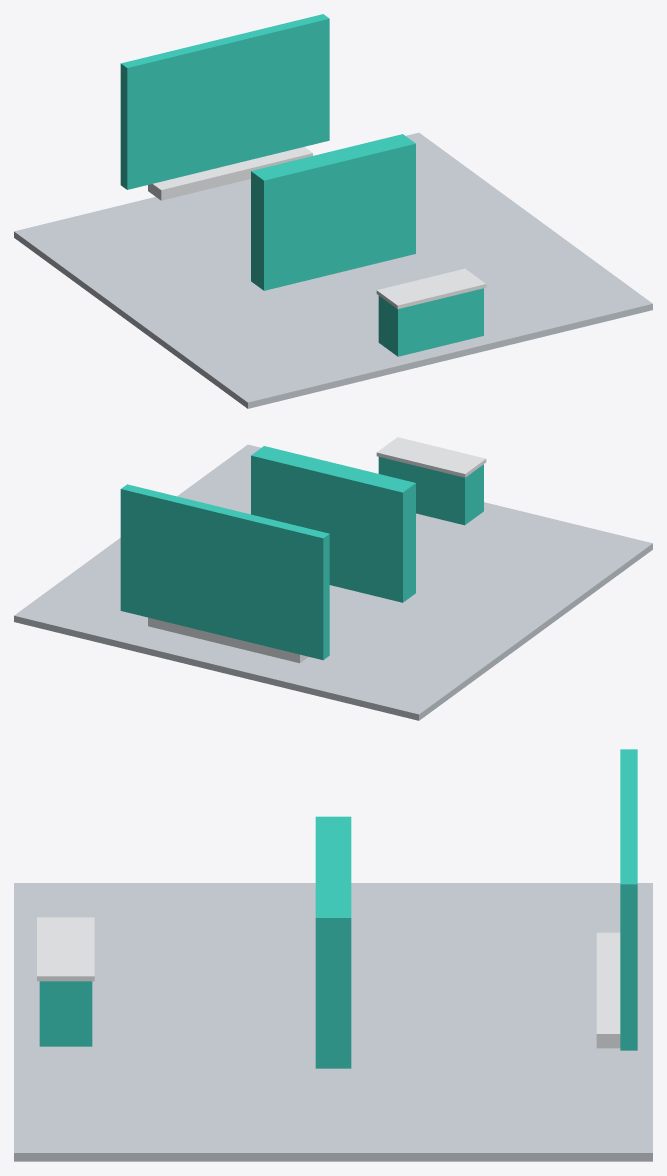
3 views of the same model, one above another, from view 1: azimuth 30°, elevation 25°; view 2: azimuth 150°, elevation 25°; view 3: azimuth 270°, elevation 25° (orthographic). The views are drawn at different scales.
Parts seen in each view (by area): view 1: Exhibition Booth Concept; view 2: Exhibition Booth Concept; view 3: Exhibition Booth Concept.
Boxes of the visible parts, x1=… form: Exhibition Booth Concept: x1=14, y1=14, x2=652, y2=408; Exhibition Booth Concept: x1=14, y1=437, x2=652, y2=720; Exhibition Booth Concept: x1=14, y1=749, x2=652, y2=1161.
Size of the model in its own units: 8 by 2.9 by 8.
